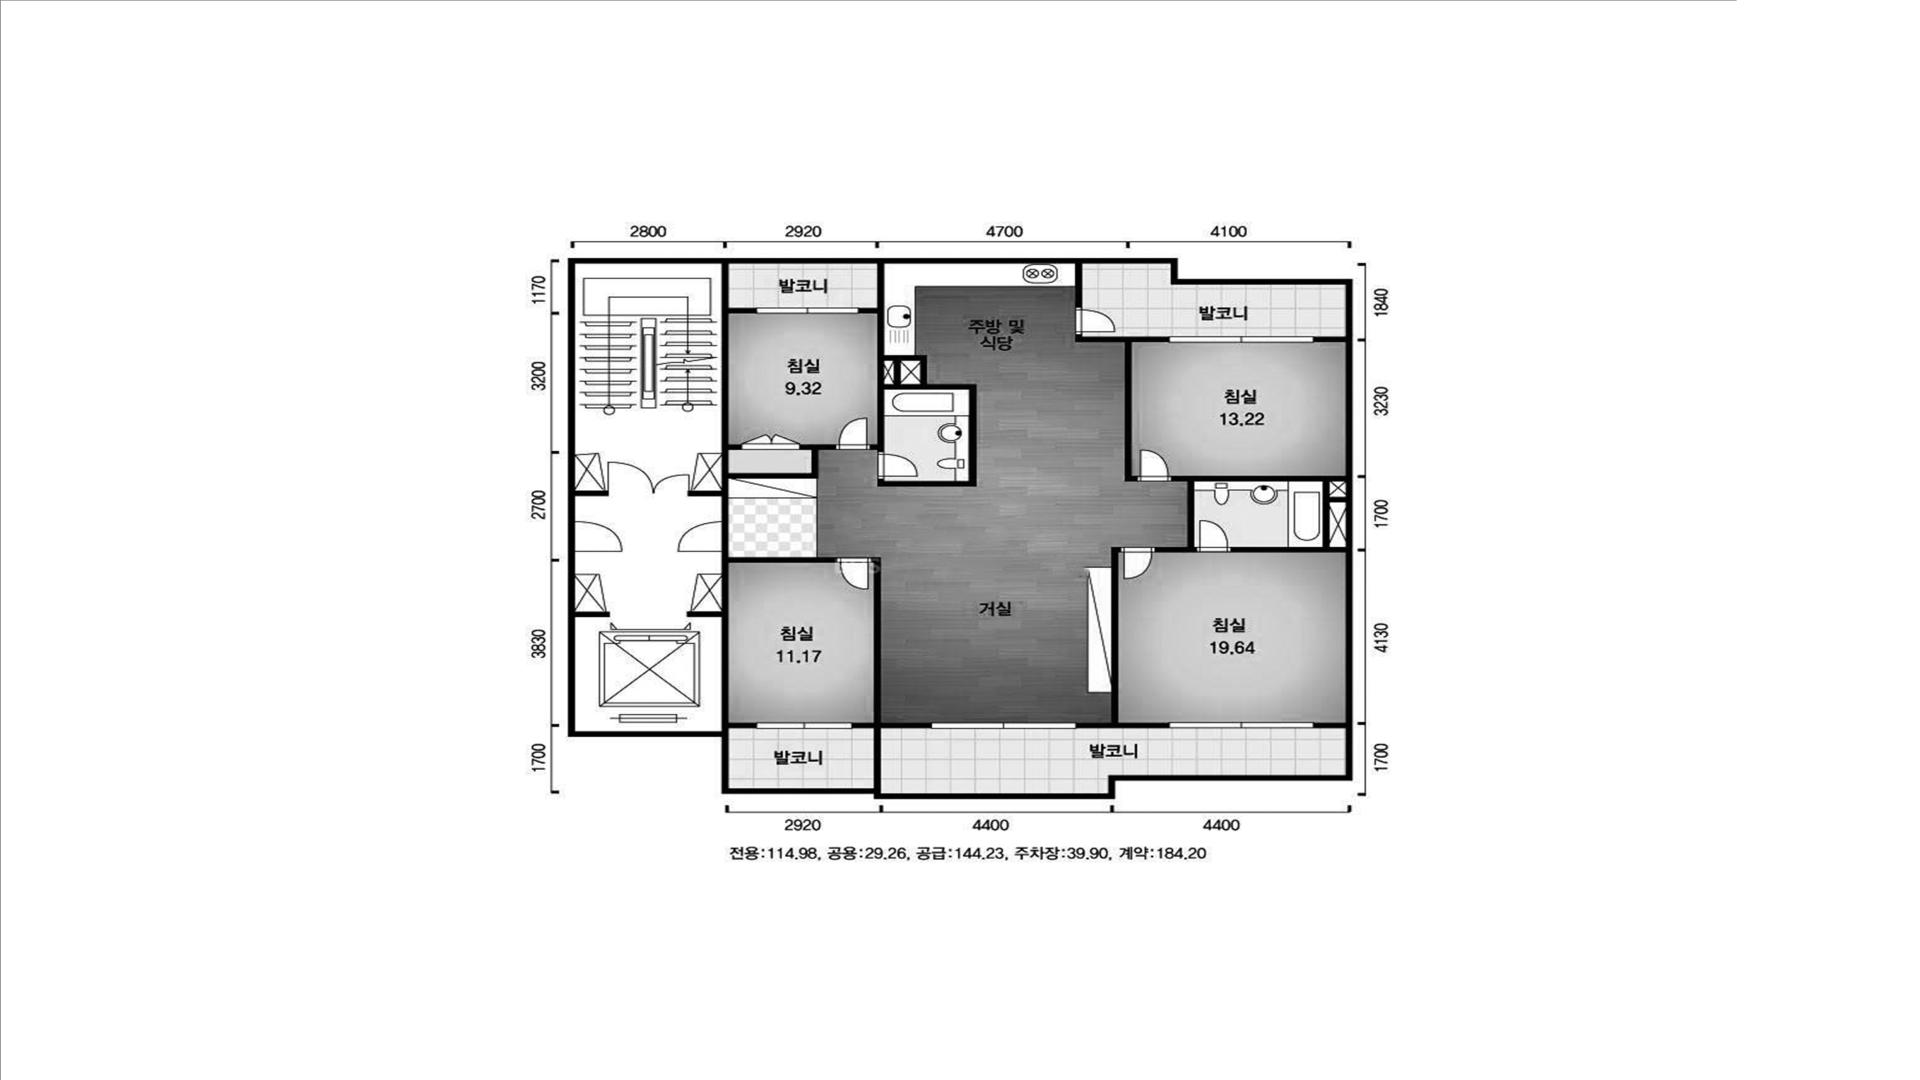background: (1, 0, 1920, 1077)
door: (877, 452, 919, 481), (1075, 307, 1116, 336), (1121, 546, 1155, 580), (836, 417, 870, 450), (1138, 448, 1172, 481), (1196, 520, 1230, 553), (837, 556, 870, 589)
wall: (567, 258, 1353, 799), (575, 264, 1345, 794), (853, 556, 930, 787), (729, 444, 836, 479), (870, 264, 885, 452), (1125, 343, 1138, 481), (1112, 547, 1121, 723), (1172, 475, 1345, 481), (969, 390, 977, 487), (1232, 547, 1345, 554), (729, 556, 836, 563), (885, 384, 977, 390), (1076, 336, 1168, 343), (1187, 481, 1195, 547), (877, 481, 968, 487), (1077, 723, 1168, 728), (1323, 481, 1329, 546), (1075, 264, 1083, 307), (687, 611, 721, 617), (885, 355, 927, 360), (1155, 547, 1197, 553), (576, 611, 609, 617), (688, 491, 721, 497), (575, 491, 609, 496), (729, 723, 756, 729), (1315, 336, 1345, 342), (1315, 723, 1345, 728), (920, 360, 927, 384), (894, 361, 901, 384), (729, 309, 756, 314), (860, 309, 877, 314), (1329, 497, 1345, 502), (729, 444, 741, 450)
window: (1168, 336, 1315, 343), (1168, 721, 1315, 728), (930, 723, 1076, 729), (756, 307, 860, 314), (756, 723, 853, 729)
